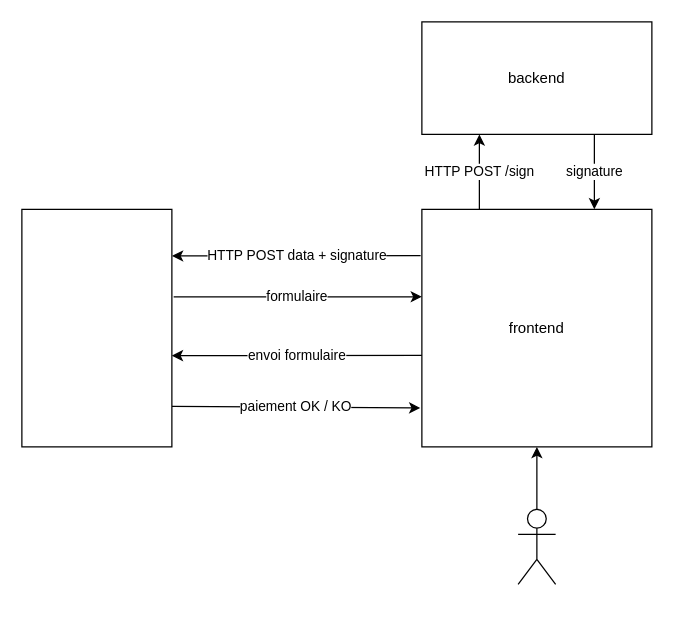
Image size: 674x633. Some labels were removed from this diagram. The shapes that lost their labels are listed below. From the top down, each one's box as (x1, y1, x2, y2) in pixels, then its label:
(21, 208, 172, 447): secure.osb.pf
(517, 508, 556, 584): Utilisateur
